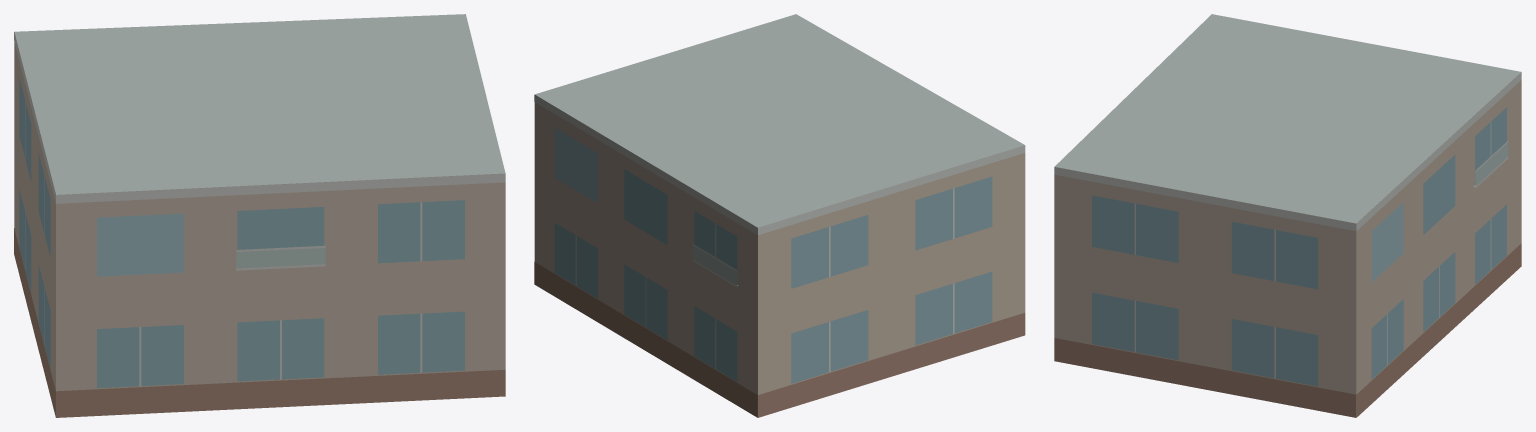
File: survey-upis-32531748.glb
3 renders of one model, left to right at view 1: azimuth 30°, elevation 25°; view 2: azimuth 150°, elevation 25°; view 3: azimuth 270°, elevation 25°, orthographic. The views are drawn at different scales.
Visible parts, largest first — view 1: survey-upis-32531748.tmp; view 2: survey-upis-32531748.tmp; view 3: survey-upis-32531748.tmp.
Boxes of the visible parts, x1=… form: survey-upis-32531748.tmp: x1=14, y1=14, x2=505, y2=417; survey-upis-32531748.tmp: x1=534, y1=14, x2=1025, y2=417; survey-upis-32531748.tmp: x1=1054, y1=14, x2=1521, y2=417.
Bounding box in the file's own units: 14.12 × 6.1 × 13.31.
